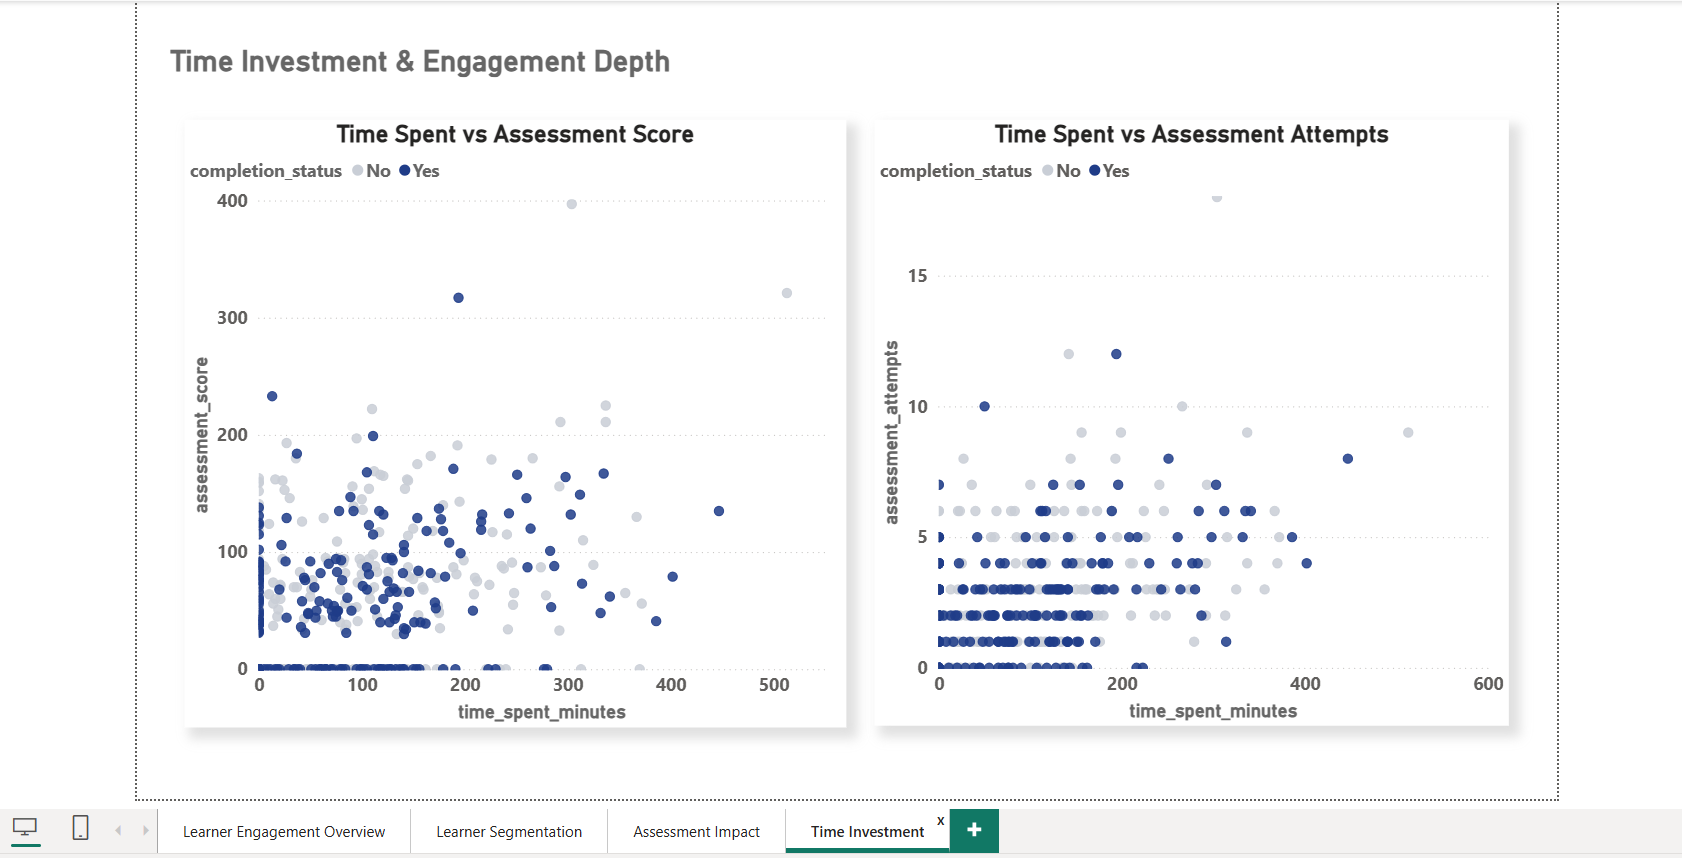

The dashboard page shown, as its layout file describes it:
{"tool":"powerbi","page":{"name":"Time Investment","canvas":[1280,720],"ordinal":3},"visuals":[{"type":"scatterChart","title":"Time Spent vs Assessment Score ","fields":{"X":["Sum(learner_activity_curated.time_spent_minutes)"],"Y":["Sum(learner_activity_curated.assessment_score)"],"Series":["learner_activity_curated.completion_status"],"Category":["learner_activity_curated.user_id"]},"box":[42.8,107.6,596.7,547.8],"z":0},{"type":"scatterChart","title":"Time Spent vs Assessment Attempts","fields":{"X":["Sum(learner_activity_curated.time_spent_minutes)"],"Y":["Sum(learner_activity_curated.assessment_attempts)"],"Series":["learner_activity_curated.completion_status"],"Category":["learner_activity_curated.user_id"]},"box":[665.2,107.6,572.3,546.6],"z":1000},{"type":"textbox","title":"Time Investment & Engagement Depth","box":[24.5,37.9,556.4,35.5],"z":2000}]}

Visuals, with their boxes on the page's 1280x720 design canvas (x1, y1, x2, y2). These are canvas units, not pixel positions in the 1682x858 screenshot, which may show the page scaled, cropped or inside an application window:
"Time Spent vs Assessment Score " scatterChart: [x1=43, y1=108, x2=640, y2=655]
"Time Spent vs Assessment Attempts" scatterChart: [x1=665, y1=108, x2=1238, y2=654]
"Time Investment & Engagement Depth" textbox: [x1=24, y1=38, x2=581, y2=73]
